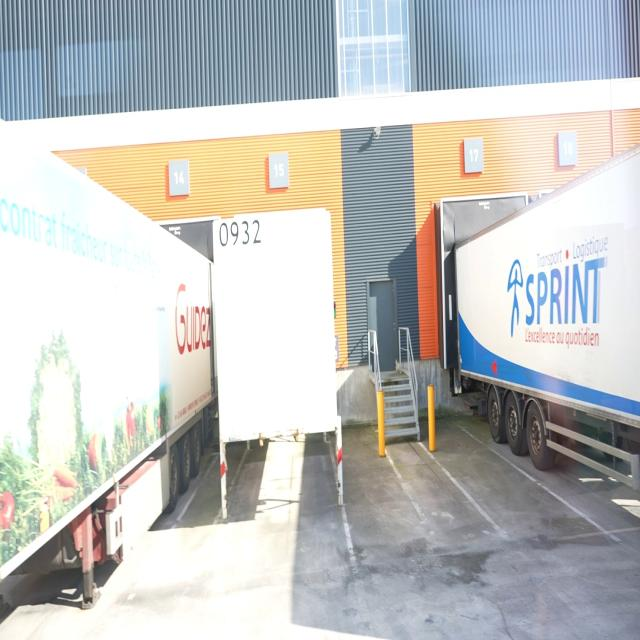Code: (217, 214, 267, 250)
